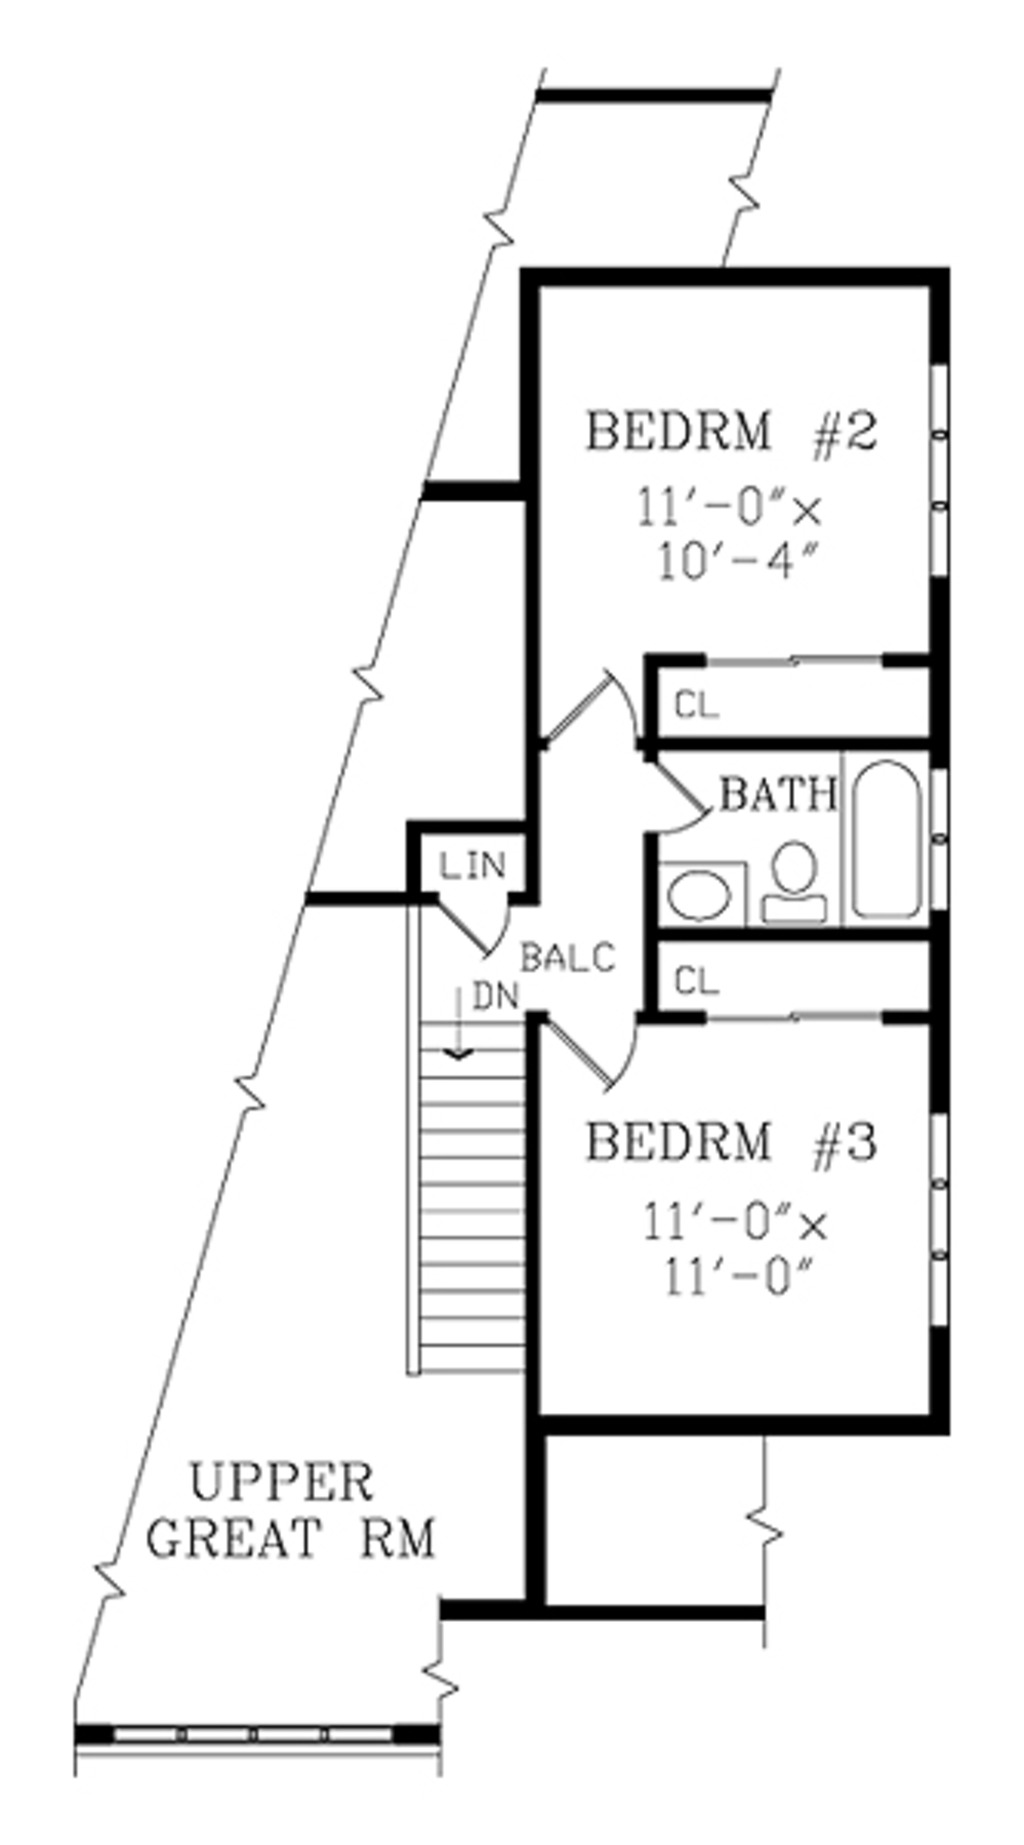door: (430, 878, 533, 969), (549, 661, 642, 755), (542, 1009, 644, 1090), (636, 749, 719, 846)
large_sink: (759, 832, 829, 932)
small_sink: (662, 841, 748, 938)
stairs: (409, 952, 528, 1378)
tub: (839, 731, 928, 934)
window: (929, 769, 958, 938)
windows: (929, 354, 956, 581), (933, 1109, 956, 1336)
